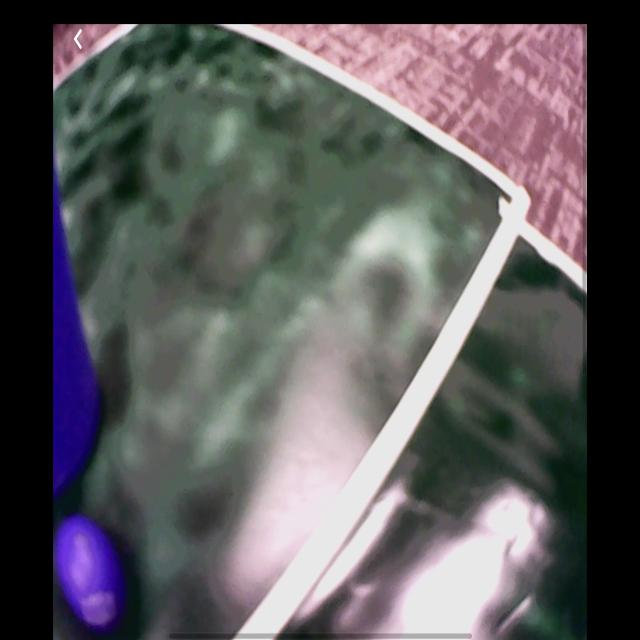ball: (57, 514, 124, 631)
